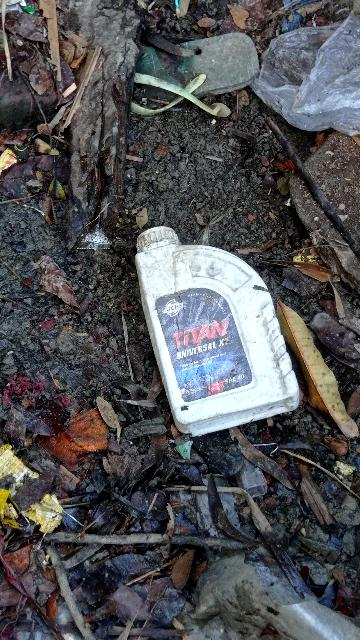bottle: (119, 210, 306, 449)
